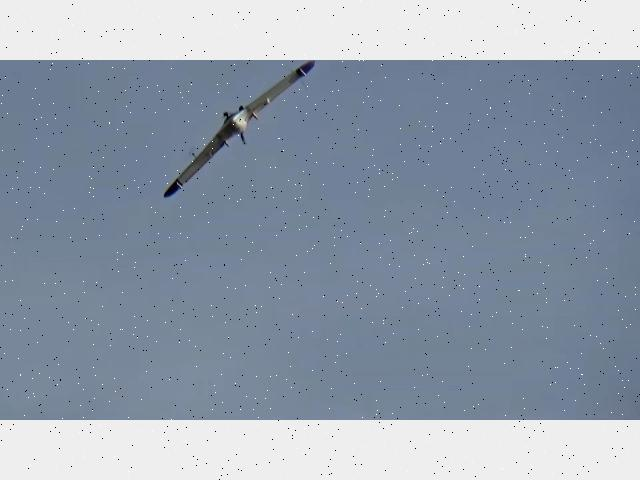Anti-Drone: (165, 60, 313, 198)
